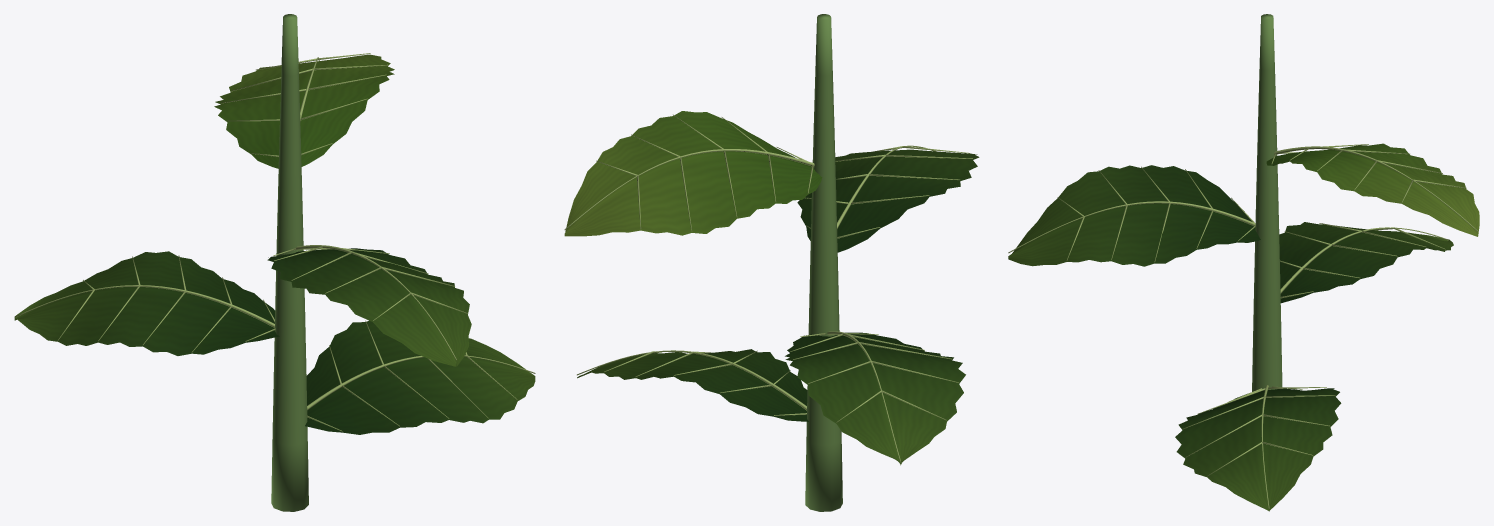
Rendered from dahlia-03.glb.
3 views of the same model, side by side, from view 1: azimuth 30°, elevation 25°; view 2: azimuth 150°, elevation 25°; view 3: azimuth 270°, elevation 25° (orthographic). The views are drawn at different scales.
Visible parts, largest first — view 1: dahlia_stage_03_leaf_veins.004, dahlia_stage_03_stem_fibres.004, dahlia_stage_03_young_leaf.004, dahlia_stage_03_raised_midveins.004; view 2: dahlia_stage_03_leaf_veins.004, dahlia_stage_03_young_leaf.004, dahlia_stage_03_stem_fibres.004, dahlia_stage_03_raised_midveins.004; view 3: dahlia_stage_03_leaf_veins.004, dahlia_stage_03_stem_fibres.004, dahlia_stage_03_young_leaf.004, dahlia_stage_03_raised_midveins.004.
Boxes of the visible parts, x1,y1,x2,y2 form: dahlia_stage_03_leaf_veins.004: [14, 248, 535, 434]; dahlia_stage_03_stem_fibres.004: [271, 14, 308, 511]; dahlia_stage_03_young_leaf.004: [214, 54, 394, 168]; dahlia_stage_03_raised_midveins.004: [14, 53, 535, 431]; dahlia_stage_03_leaf_veins.004: [577, 149, 979, 465]; dahlia_stage_03_young_leaf.004: [564, 111, 822, 236]; dahlia_stage_03_stem_fibres.004: [805, 14, 842, 511]; dahlia_stage_03_raised_midveins.004: [564, 114, 972, 462]; dahlia_stage_03_leaf_veins.004: [1008, 165, 1453, 511]; dahlia_stage_03_stem_fibres.004: [1252, 14, 1282, 391]; dahlia_stage_03_young_leaf.004: [1266, 143, 1479, 236]; dahlia_stage_03_raised_midveins.004: [1008, 144, 1478, 508].
Bounding box in the file's own units: 0.1046 × 0.1135 × 0.1088.
4 materials, 2 textured.
